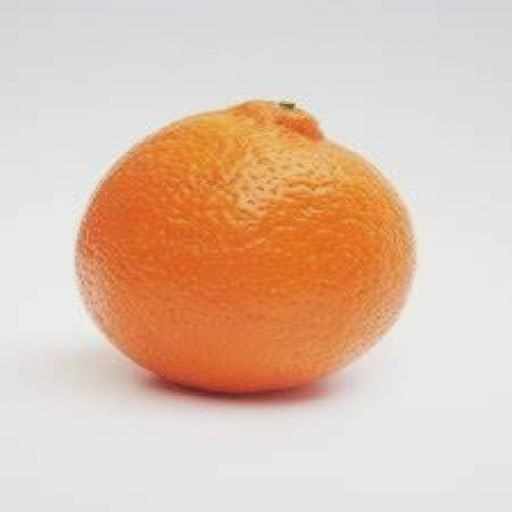fruit: (33, 118, 119, 424)
